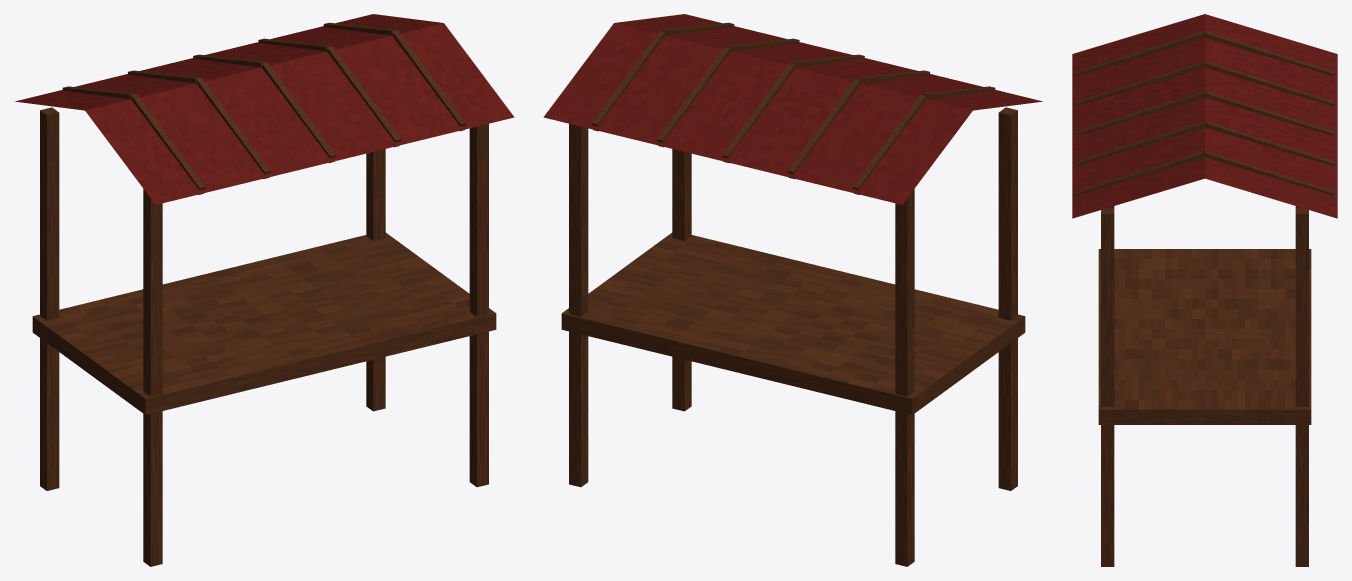
File: SM_market_stall.gltf
3 renders of one model, left to right at view 1: azimuth 30°, elevation 25°; view 2: azimuth 150°, elevation 25°; view 3: azimuth 270°, elevation 25°, orthographic. The views are drawn at different scales.
Visible parts, largest first — view 1: root; view 2: root; view 3: root.
Boxes of the visible parts, x1=… form: root: x1=15, y1=14, x2=514, y2=566; root: x1=543, y1=14, x2=1042, y2=566; root: x1=1072, y1=14, x2=1337, y2=566.
Size of the model in its own units: 2.2 by 2.47 by 1.5.
2 materials, 2 textured.
